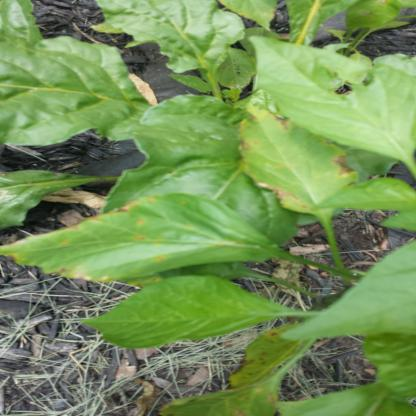Bell_pepper leaf spot: (0, 189, 276, 288), (230, 101, 360, 226), (151, 377, 294, 416), (232, 324, 308, 386)
